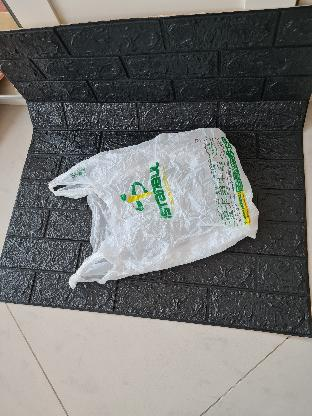Plastic Bag: (36, 122, 268, 292)
